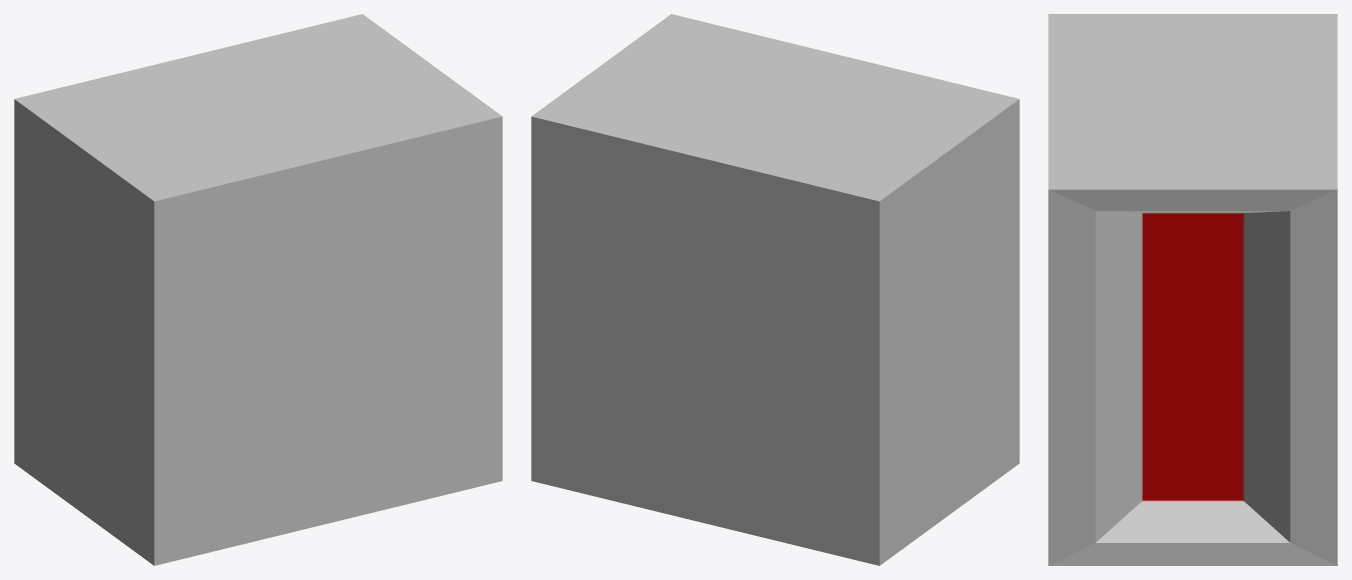
The picture shows the model from 3 angles, left to right: view 1: azimuth 30°, elevation 25°; view 2: azimuth 150°, elevation 25°; view 3: azimuth 270°, elevation 25°; orthographic projection. The views are drawn at different scales.
Visible parts, largest first — view 1: Cube; view 2: Cube; view 3: Cube.
Boxes of the visible parts, left/top/right/bottom form: Cube: left=14, top=14, right=502, bottom=565; Cube: left=531, top=14, right=1019, bottom=565; Cube: left=1048, top=14, right=1337, bottom=565.
Bounding box in the file's own units: 2 × 2 × 1.39.
1 material, 1 textured.
